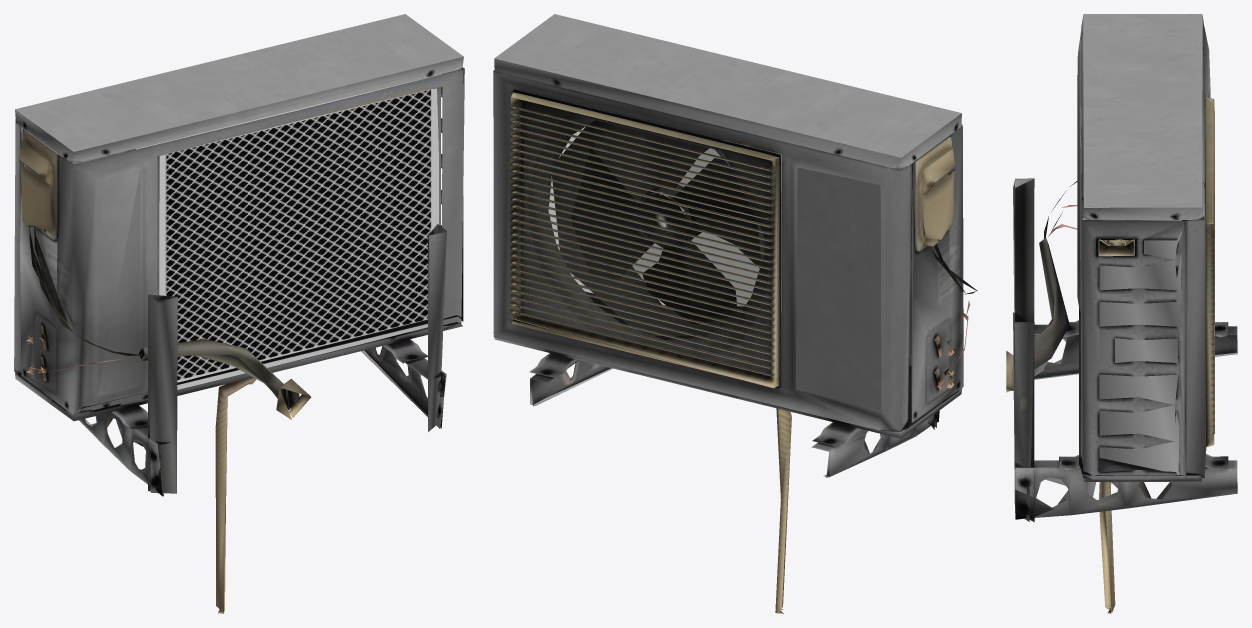
File: ac_unit.glb
The picture shows the model from 3 angles, left to right: view 1: azimuth 30°, elevation 25°; view 2: azimuth 150°, elevation 25°; view 3: azimuth 270°, elevation 25°; orthographic projection. The views are drawn at different scales.
Visible parts, largest first — view 1: exterior_aircon_unit; view 2: exterior_aircon_unit; view 3: exterior_aircon_unit.
Boxes of the visible parts, <box> form: exterior_aircon_unit: <box>14,14,464,613</box>; exterior_aircon_unit: <box>493,14,977,613</box>; exterior_aircon_unit: <box>1006,14,1237,613</box>.
Bounding box in the file's own units: 0.7987 × 0.9265 × 0.3748.
Materials: 2 (2 with a texture image).
